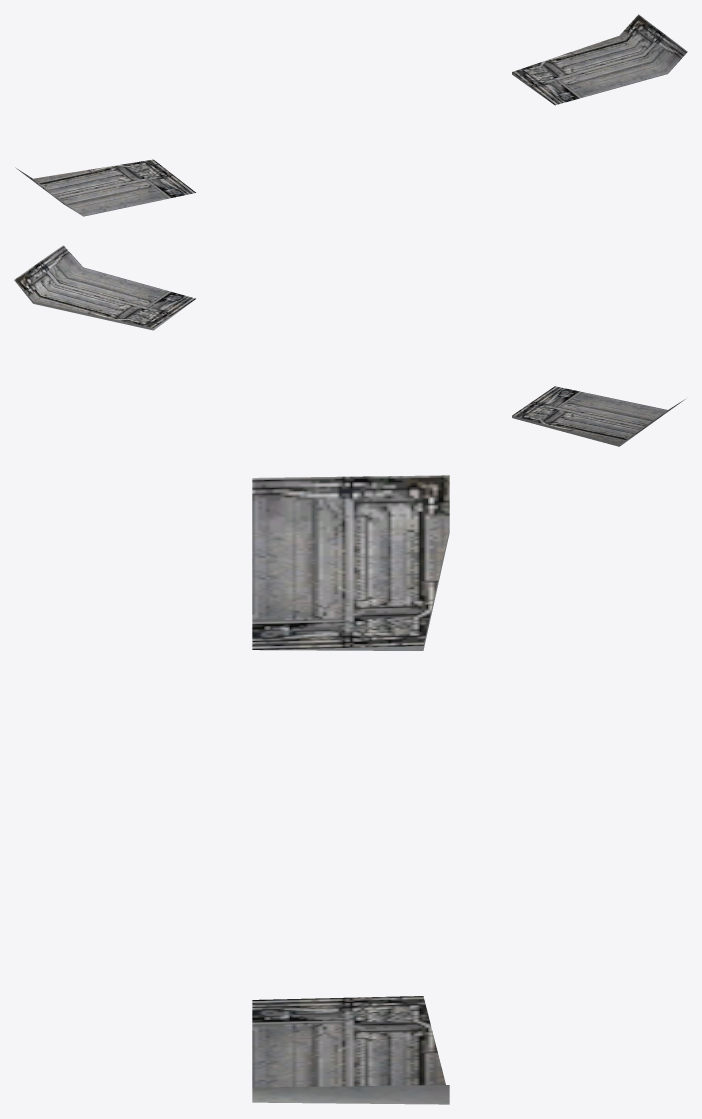
The model's file is lambda_geardoor_a_l3.fbx.
3 renders of one model, top to bottom at view 1: azimuth 30°, elevation 25°; view 2: azimuth 150°, elevation 25°; view 3: azimuth 270°, elevation 25°, orthographic. The views are drawn at different scales.
Visible parts, largest first — view 1: mesh_node; view 2: mesh_node; view 3: mesh_node.
Part boxes in pixels (x1,y1,x2,y2): mesh_node: (15,14,687,216); mesh_node: (14,245,685,446); mesh_node: (252,475,449,1104).
Size of the model in its own units: 13.68 by 0.4802 by 1.88.
